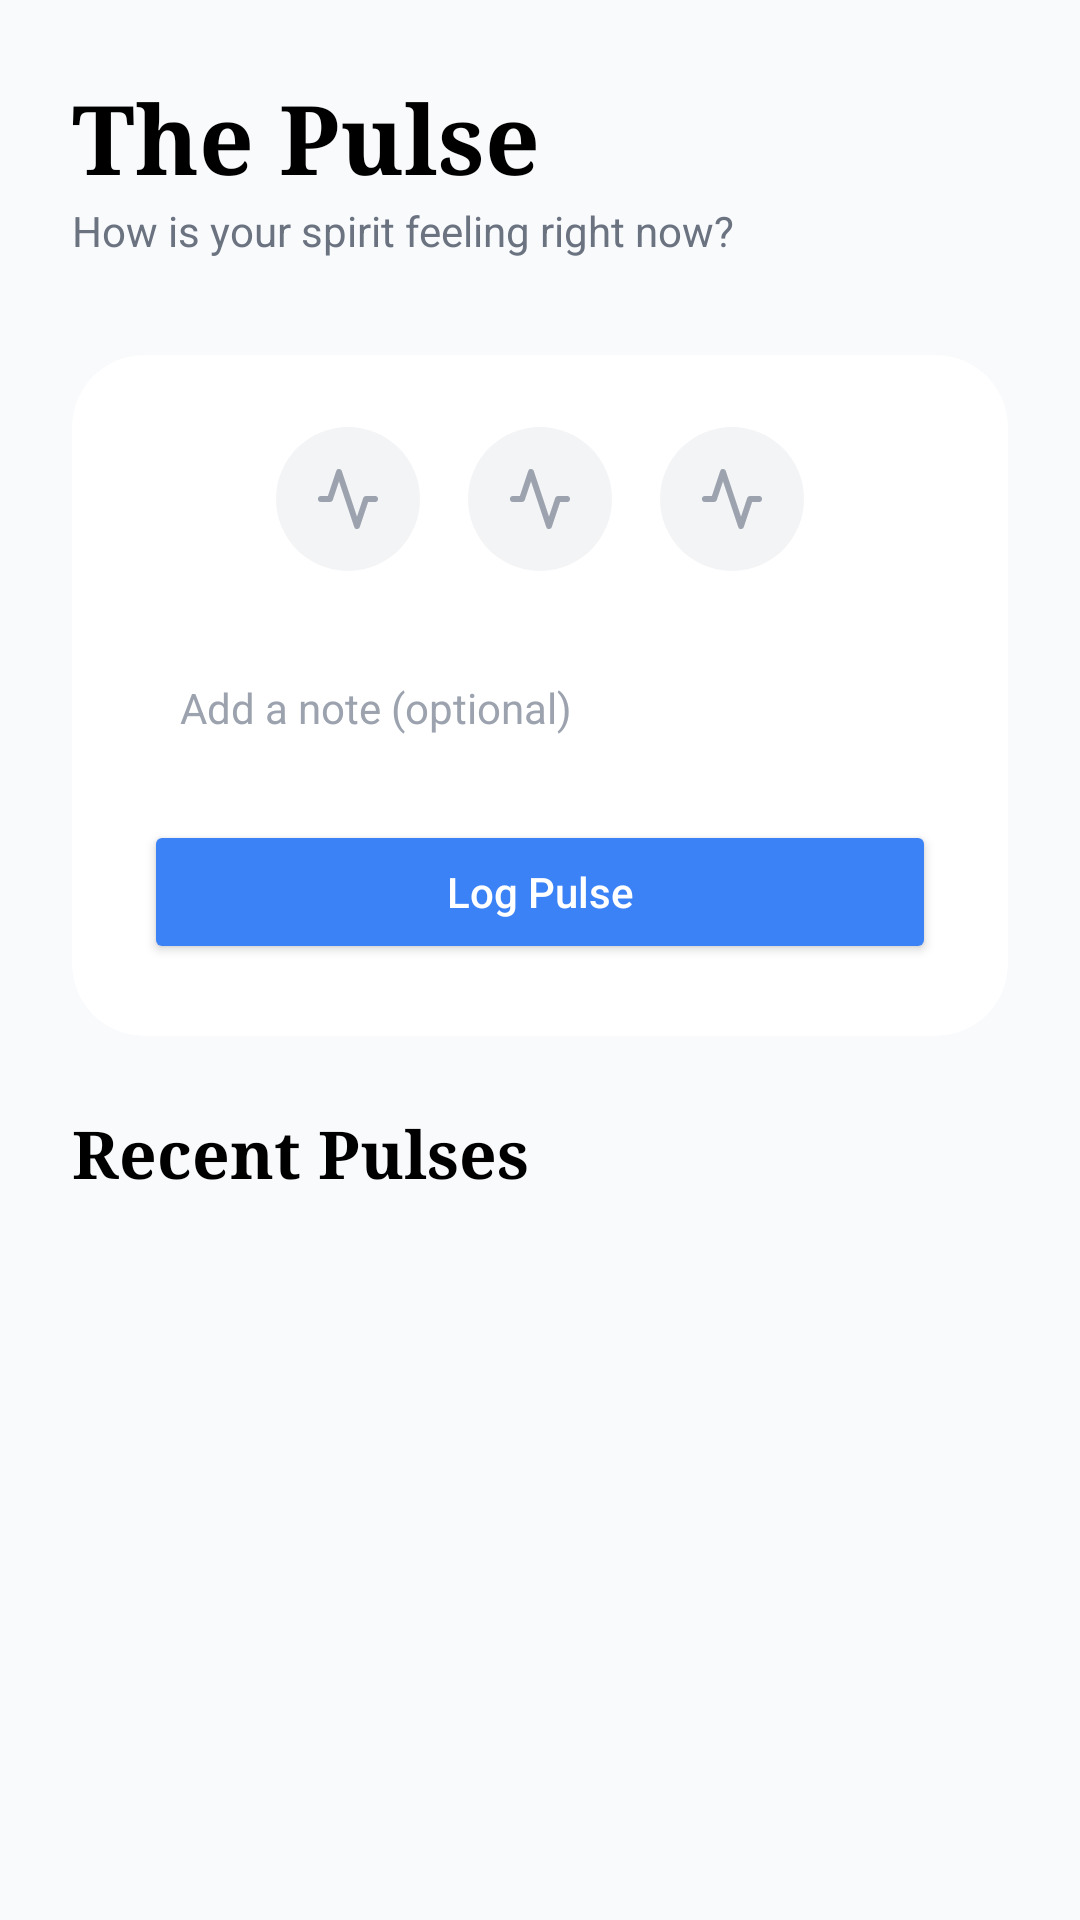

Named icons in this screenshot (1080x1920) and their bounding boxes, bbox=[x1, y1, x2, y2]:
pulse: bbox=[276, 427, 420, 571], bbox=[468, 427, 612, 571], bbox=[660, 427, 804, 571]
